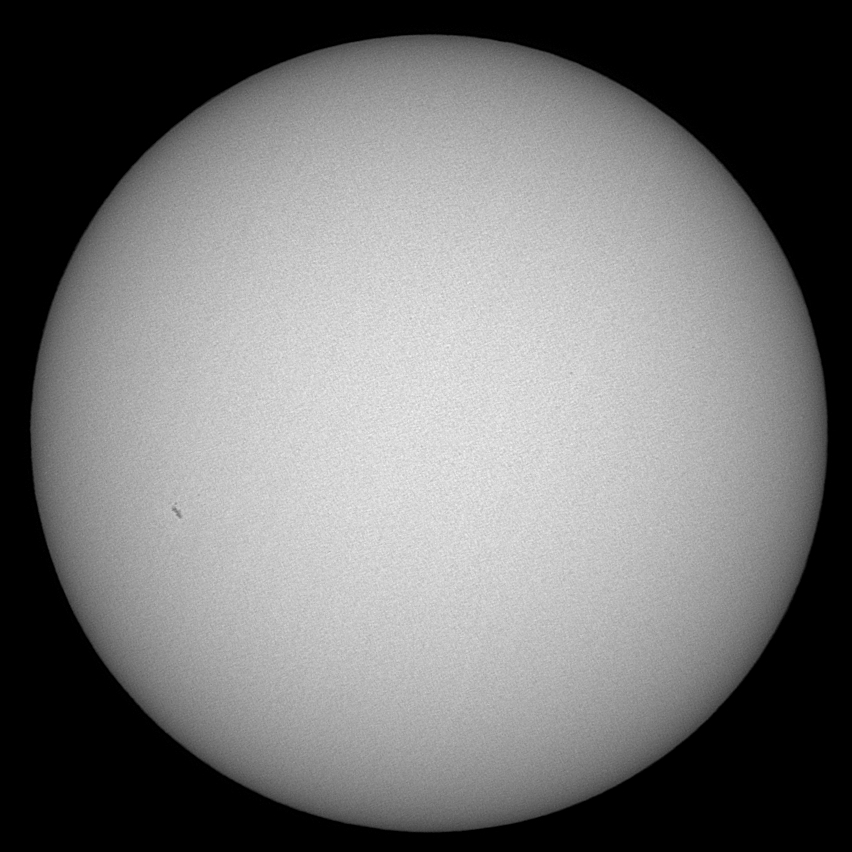sunspot: (164, 499, 186, 523)
